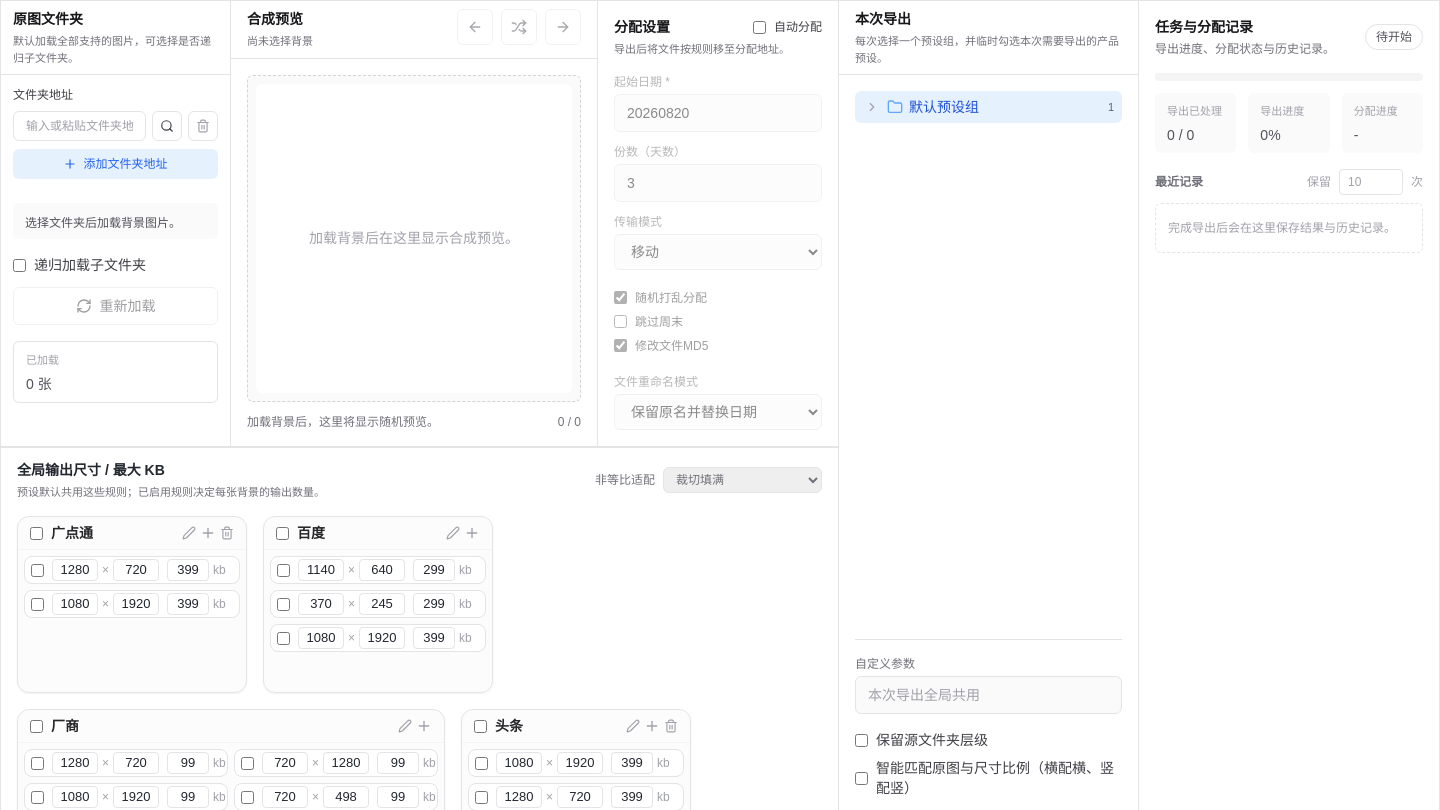
Test case: BatchExportTab › automatically scans and persists a completed folder address
Type "D:/images" into the field with placeholder "输入或粘贴文件夹地址" at x=80, y=126, box [13,111,146,141]
Wait 500 ms
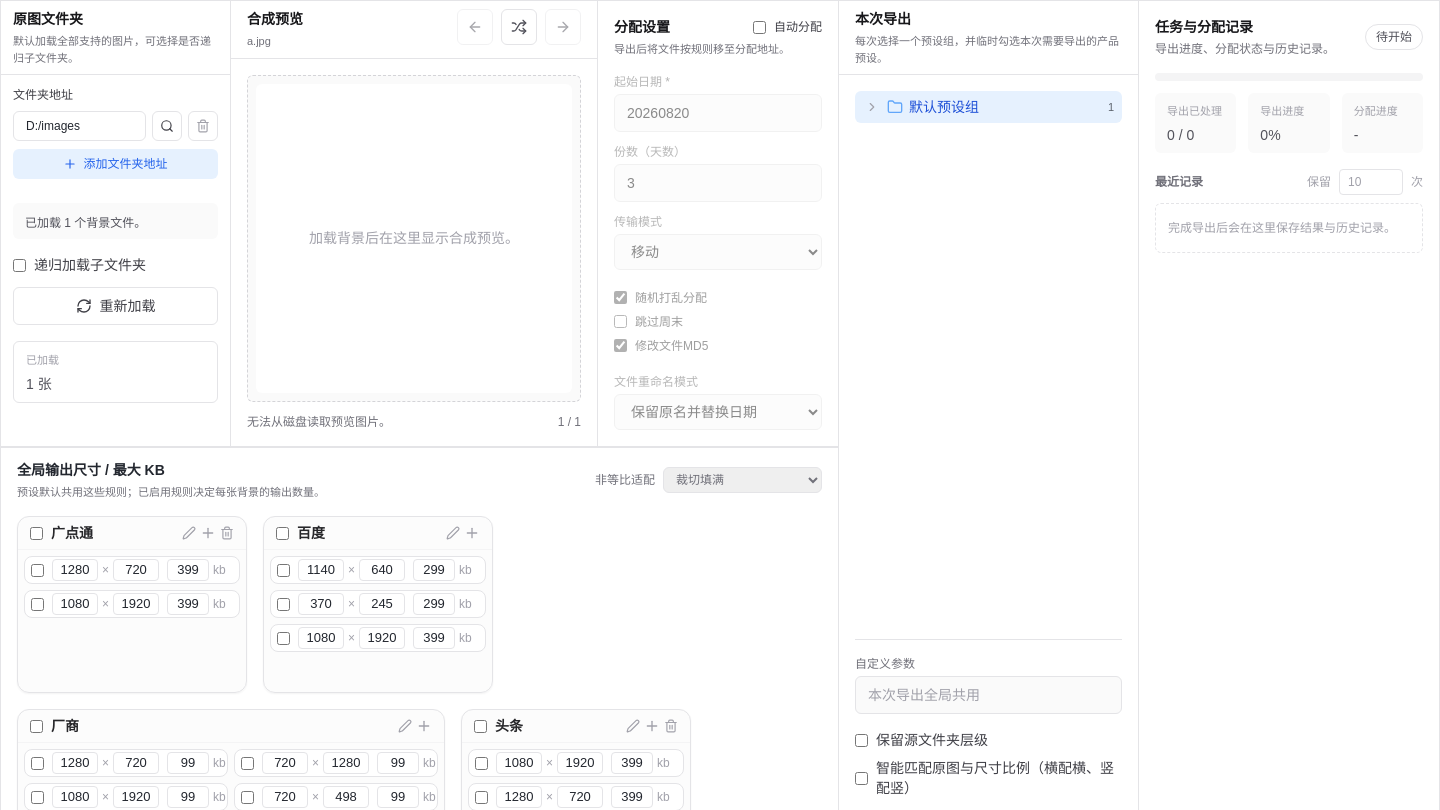
Expected: the text "a.jpg" is shown, [247,35,271,47]
